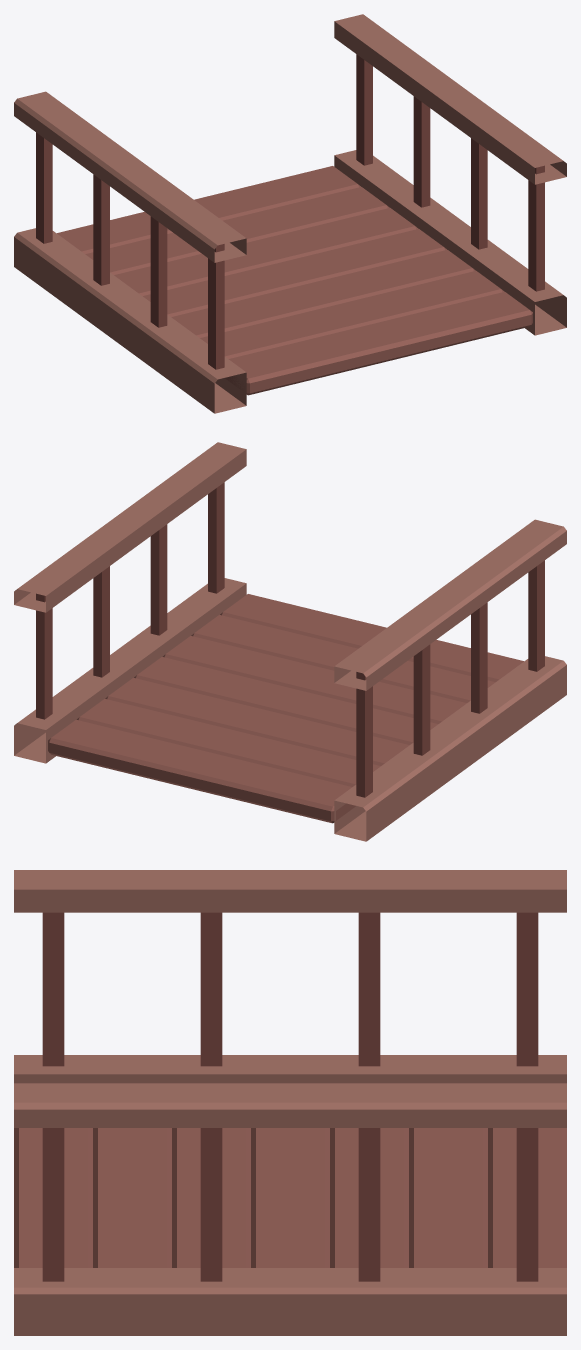
File: BridgePlatform.fbx
The picture shows the model from 3 angles, top to bottom: view 1: azimuth 30°, elevation 25°; view 2: azimuth 150°, elevation 25°; view 3: azimuth 270°, elevation 25°; orthographic projection. The views are drawn at different scales.
Visible parts, largest first — view 1: BridgePlatform; view 2: BridgePlatform; view 3: BridgePlatform.
Boxes of the visible parts, bbox=[...] form: BridgePlatform: bbox=[14, 14, 566, 413]; BridgePlatform: bbox=[14, 442, 566, 841]; BridgePlatform: bbox=[14, 870, 566, 1335].
Size of the model in its own units: 2.2 by 2.17 by 1.
